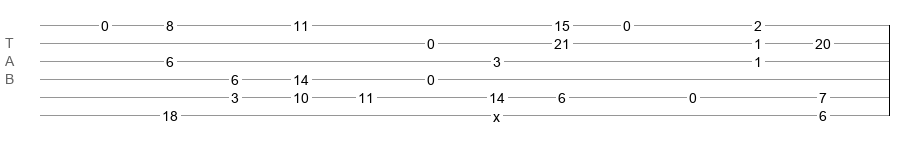0: (101, 18, 109, 28), (427, 36, 435, 46), (427, 72, 435, 82), (623, 18, 631, 28), (689, 90, 697, 100)
1: (754, 36, 762, 46), (754, 54, 762, 64)
10: (293, 90, 309, 100)
11: (293, 18, 309, 28), (358, 90, 374, 100)
14: (293, 72, 309, 82), (489, 90, 505, 100)
15: (554, 18, 570, 28)
18: (162, 108, 178, 118)
2: (754, 18, 762, 28)
20: (815, 36, 831, 46)
21: (554, 36, 570, 46)
3: (231, 90, 239, 100), (493, 54, 501, 64)
6: (166, 54, 174, 64), (231, 72, 239, 82), (558, 90, 566, 100), (819, 108, 827, 118)
7: (819, 90, 827, 100)
8: (166, 18, 174, 28)
x: (493, 109, 500, 117)
